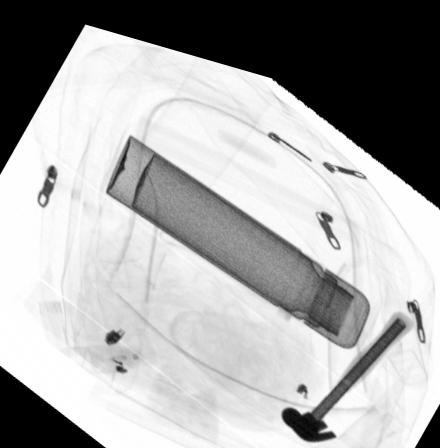Hammer: (278, 287, 415, 427)
